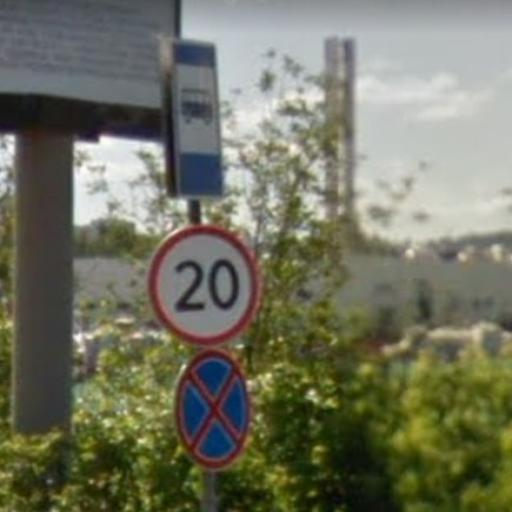traffic_sign: (148, 225, 262, 349), (169, 36, 228, 201), (174, 350, 252, 468)
